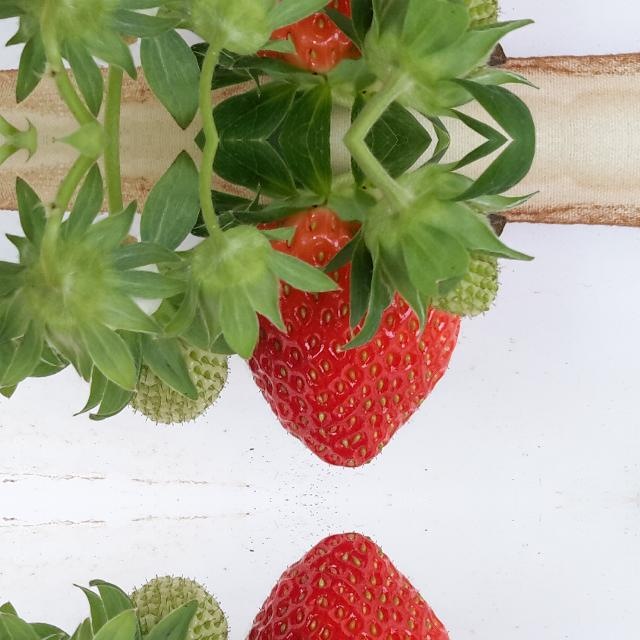Health_100: (248, 207, 460, 469), (247, 531, 460, 640), (247, 0, 460, 73)
Health_25: (103, 261, 229, 423), (103, 577, 229, 640)
